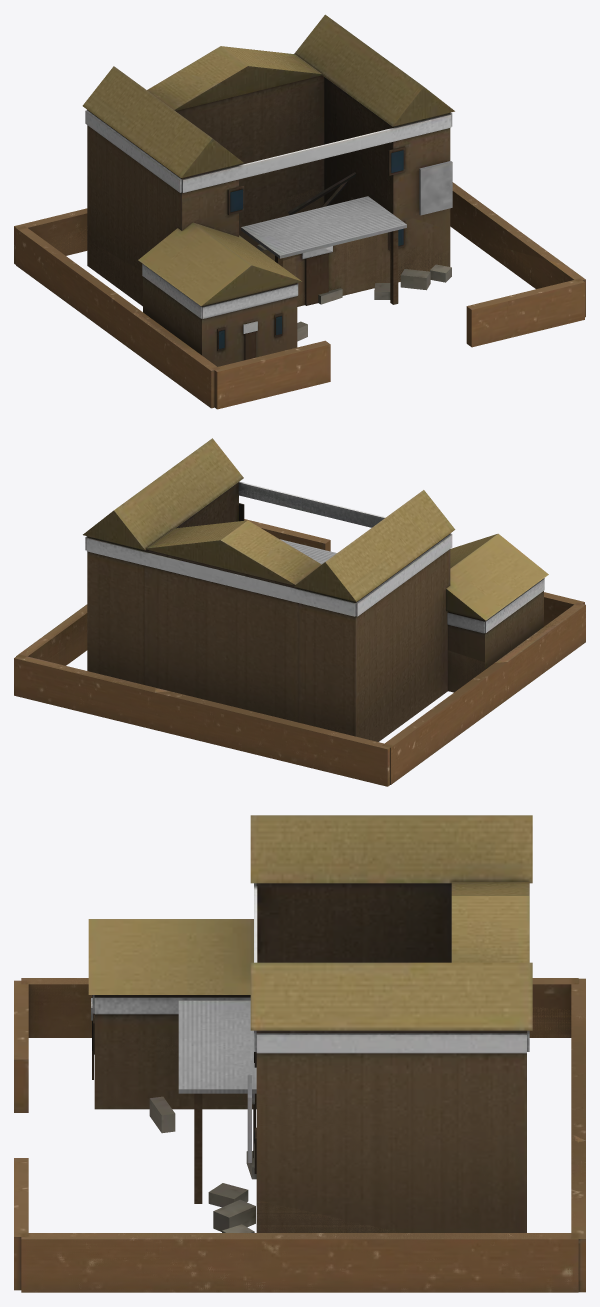
File: civic-bronze-americas.glb
3 renders of one model, top to bottom at view 1: azimuth 30°, elevation 25°; view 2: azimuth 150°, elevation 25°; view 3: azimuth 270°, elevation 25°, orthographic. The views are drawn at different scales.
Visible parts, largest first — view 1: LOD0, LOD0.001, LOD0.002; view 2: LOD0, LOD0.001, LOD0.002; view 3: LOD0, LOD0.001, LOD0.002.
Boxes of the visible parts, bbox=[...] form: LOD0: bbox=[14, 14, 585, 409]; LOD0.001: bbox=[16, 71, 583, 341]; LOD0.002: bbox=[14, 189, 584, 406]; LOD0: bbox=[14, 438, 585, 786]; LOD0.001: bbox=[14, 486, 388, 786]; LOD0.002: bbox=[92, 603, 585, 785]; LOD0: bbox=[14, 815, 585, 1292]; LOD0.001: bbox=[21, 881, 585, 1292]; LOD0.002: bbox=[21, 978, 585, 1292].
Size of what is drawn, in the model's own units: 1.88 by 0.92 by 1.74.
2 materials, 2 textured.
